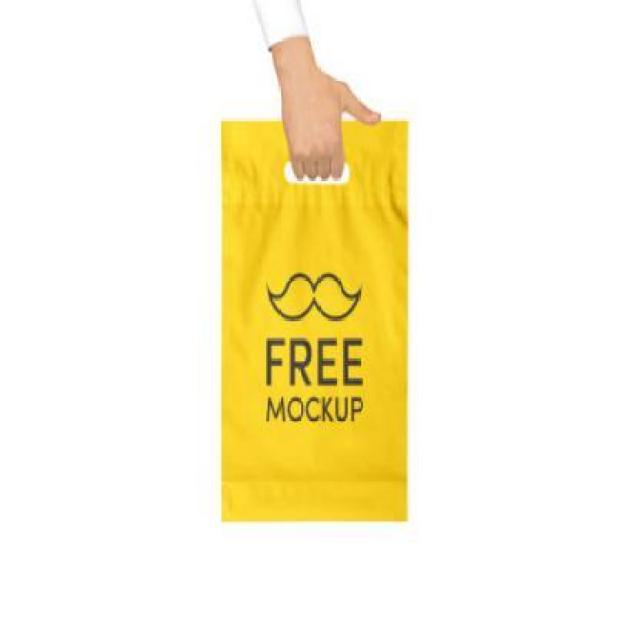plastic bag: (201, 108, 427, 530)
